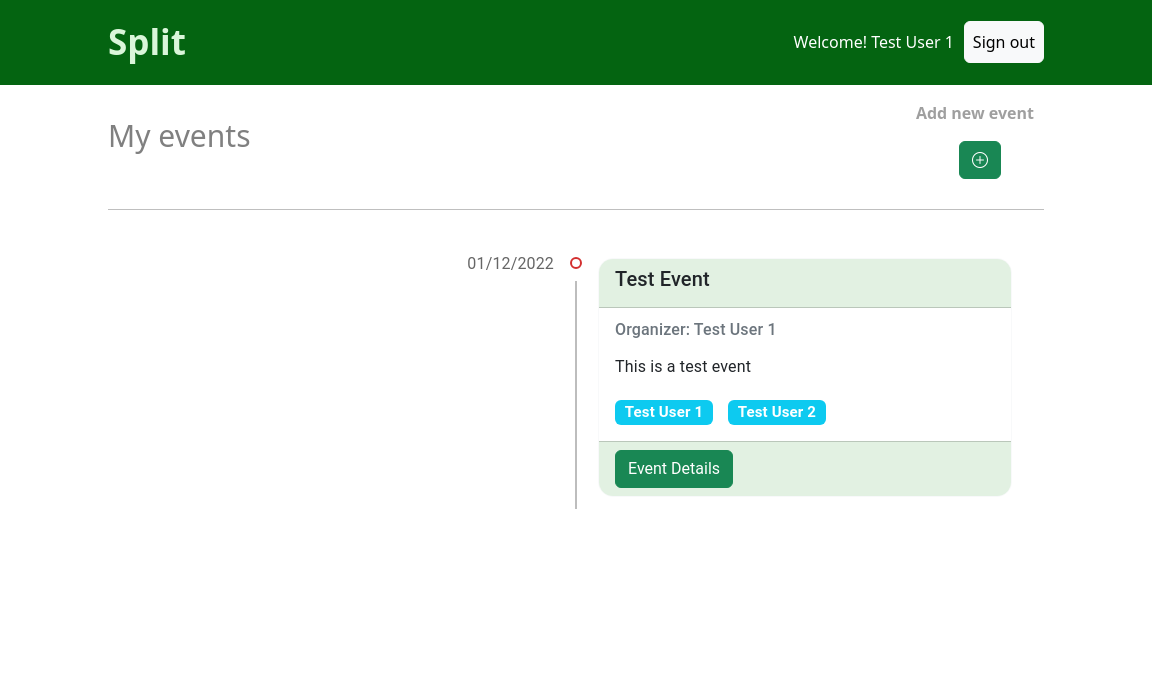
Test: event details button works? › Given modal poped up and organizer user, date picker should display
Note: click on the event details button
Click the button "Event Details": (674, 469) [615,450,733,488]
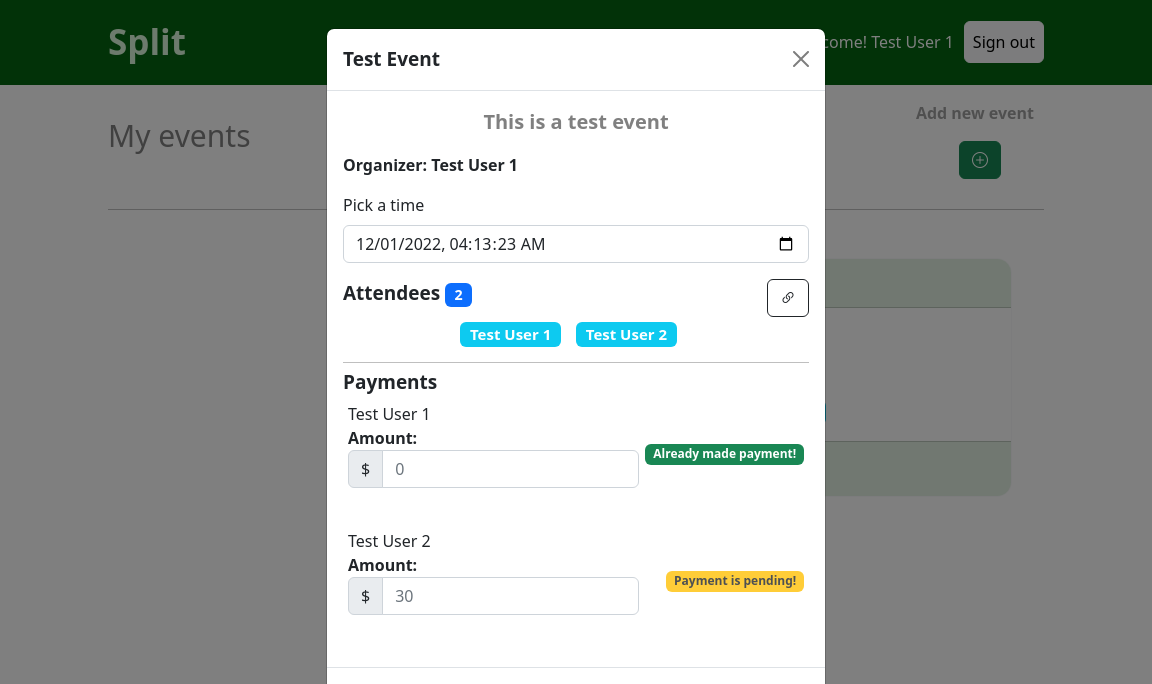
Check: the text "Pick a time" is shown, box [343,192,424,216]
